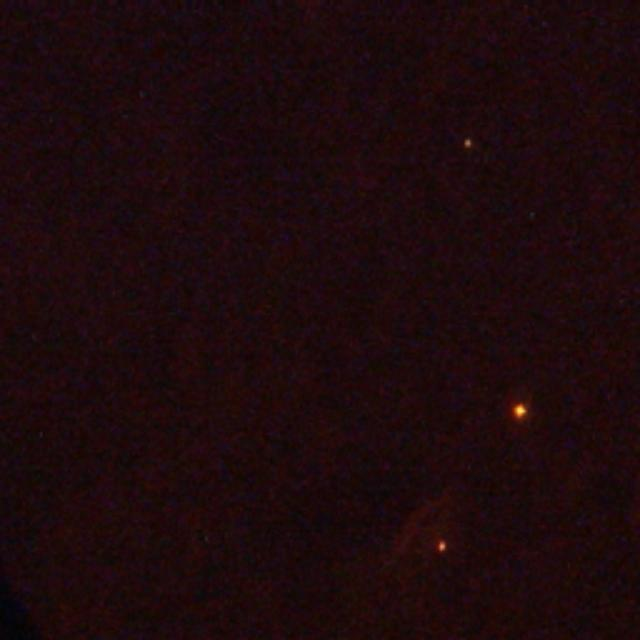Fragment: (510, 401, 532, 422)
